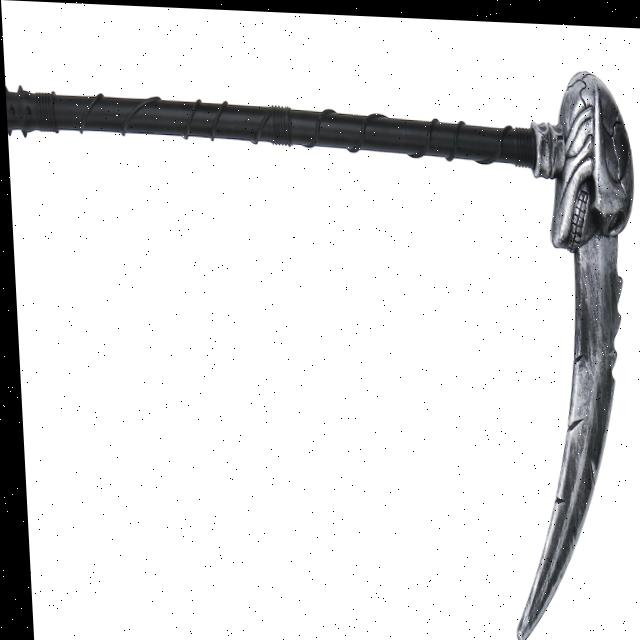sickle: (1, 30, 640, 640)
